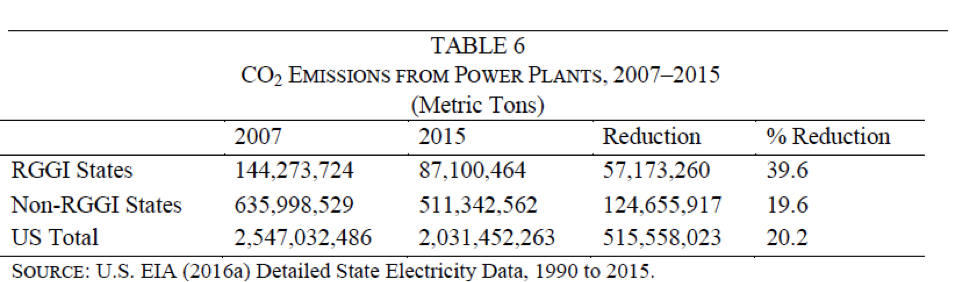fracking table: (1, 31, 929, 254)
